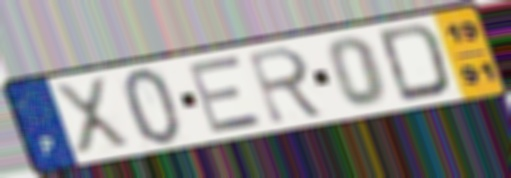0: (120, 65, 185, 148), (325, 35, 392, 110)
D: (375, 21, 454, 106)
E: (184, 52, 268, 136)
R: (244, 43, 330, 127)
X: (50, 74, 135, 157)
